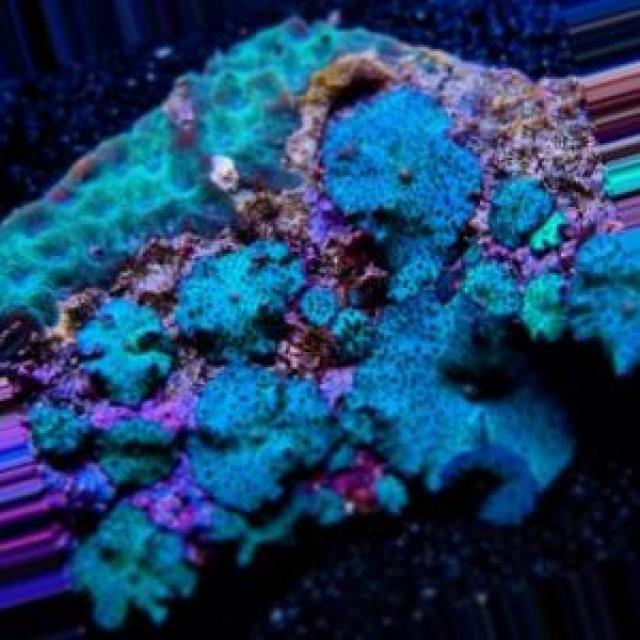healthy coral: (0, 21, 640, 627)
